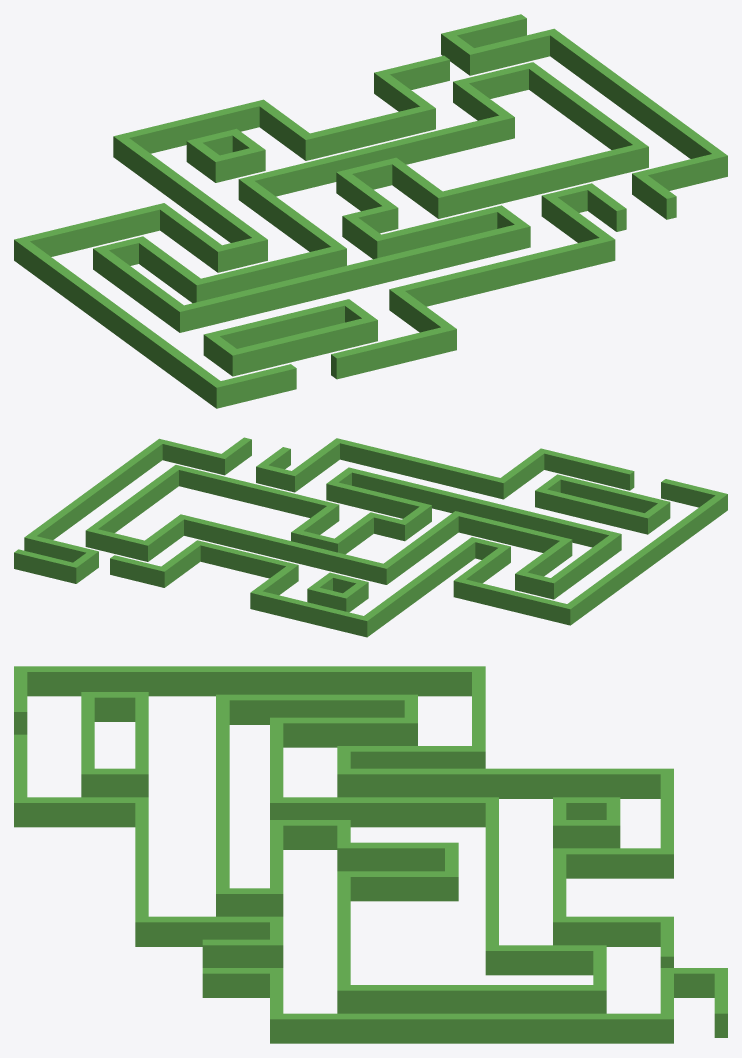
3 renders of one model, top to bottom at view 1: azimuth 30°, elevation 25°; view 2: azimuth 150°, elevation 25°; view 3: azimuth 270°, elevation 25°, orthographic. The views are drawn at different scales.
Visible parts, largest first — view 1: Wall__205_, Wall__213_, Wall__174_, Wall__186_, Wall__208_, Wall__181_, Wall__171_, Wall__210_, Wall__175_, Wall__200_, Wall__207_, Wall__187_ (+34 smaller); view 2: Wall__205_, Wall__174_, Wall__213_, Wall__208_, Wall__181_, Wall__186_, Wall__171_, Wall__207_, Wall__172_, Wall__209_, Wall__200_, Wall__215_ (+36 smaller); view 3: Wall__213_, Wall__181_, Wall__171_, Wall__187_, Wall__190_, Wall__206_, Wall__214_, Wall__203_, Wall__194_, Wall__179_, Wall__176_, Wall__202_ (+37 smaller).
Part boxes in pixels (x1,y1,x2,y2): Wall__205_: (174, 223, 530, 332); Wall__213_: (14, 237, 226, 408); Wall__174_: (239, 113, 514, 196); Wall__186_: (432, 145, 638, 217); Wall__208_: (389, 235, 611, 312); Wall__181_: (544, 28, 727, 175); Wall__171_: (113, 134, 267, 262); Wall__210_: (237, 318, 377, 374); Wall__175_: (300, 104, 435, 160); Wall__200_: (191, 246, 346, 301); Wall__207_: (15, 203, 164, 256); Wall__187_: (524, 62, 648, 169); Wall__205_: (352, 469, 617, 547); Wall__174_: (184, 515, 391, 584); Wall__213_: (562, 494, 727, 625); Wall__208_: (333, 438, 506, 499); Wall__181_: (24, 439, 166, 552); Wall__186_: (179, 466, 339, 521); Wall__171_: (359, 539, 478, 637); Wall__207_: (454, 577, 574, 625); Wall__172_: (250, 589, 371, 636); Wall__209_: (535, 487, 647, 532); Wall__200_: (451, 511, 571, 558); Wall__215_: (537, 448, 634, 490); Wall__213_: (16, 666, 483, 696); Wall__181_: (270, 1013, 673, 1043); Wall__171_: (337, 768, 673, 798); Wall__187_: (337, 985, 606, 1013); Wall__190_: (270, 797, 497, 827); Wall__206_: (216, 694, 417, 724); Wall__214_: (14, 797, 148, 827); Wall__203_: (270, 717, 417, 747); Wall__194_: (135, 916, 269, 946); Wall__179_: (485, 945, 606, 975); Wall__176_: (553, 916, 673, 946); Wall__202_: (337, 746, 485, 768).
Size of what is drawn, in the model's own units: 6200 by 200 by 5300.
